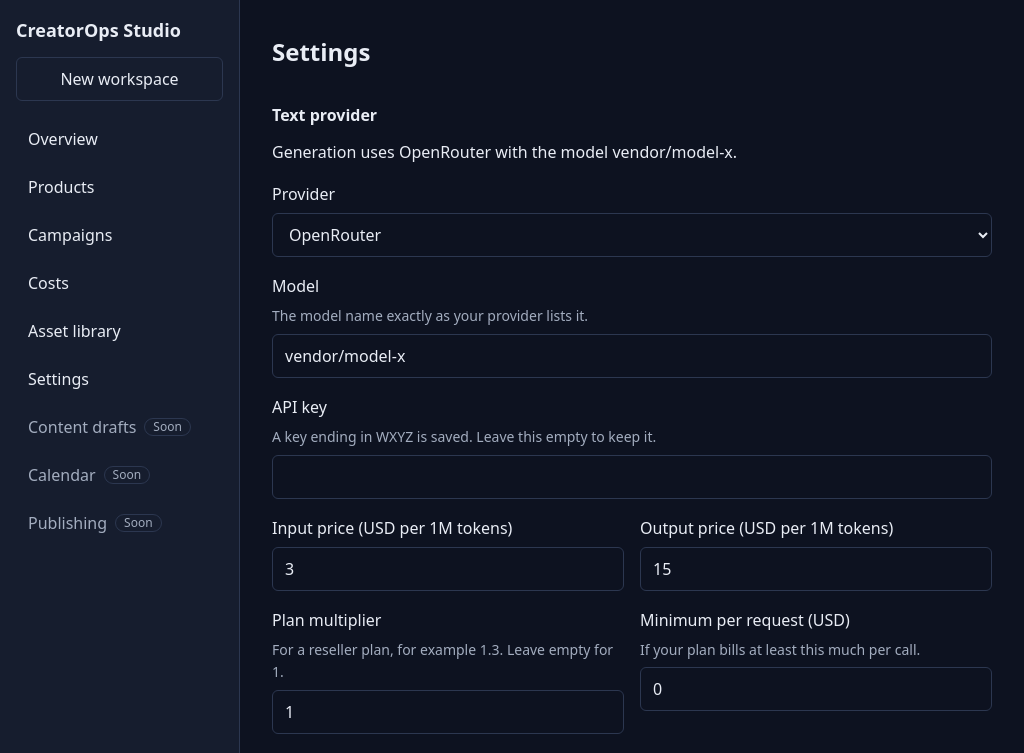
Test: Settings: text provider › explains a conflict and reloads the form with the server values
Replace the text in the field labelled "Model" with "vendor/other" at (632, 356), box [272, 334, 992, 378]
(page scrolled)
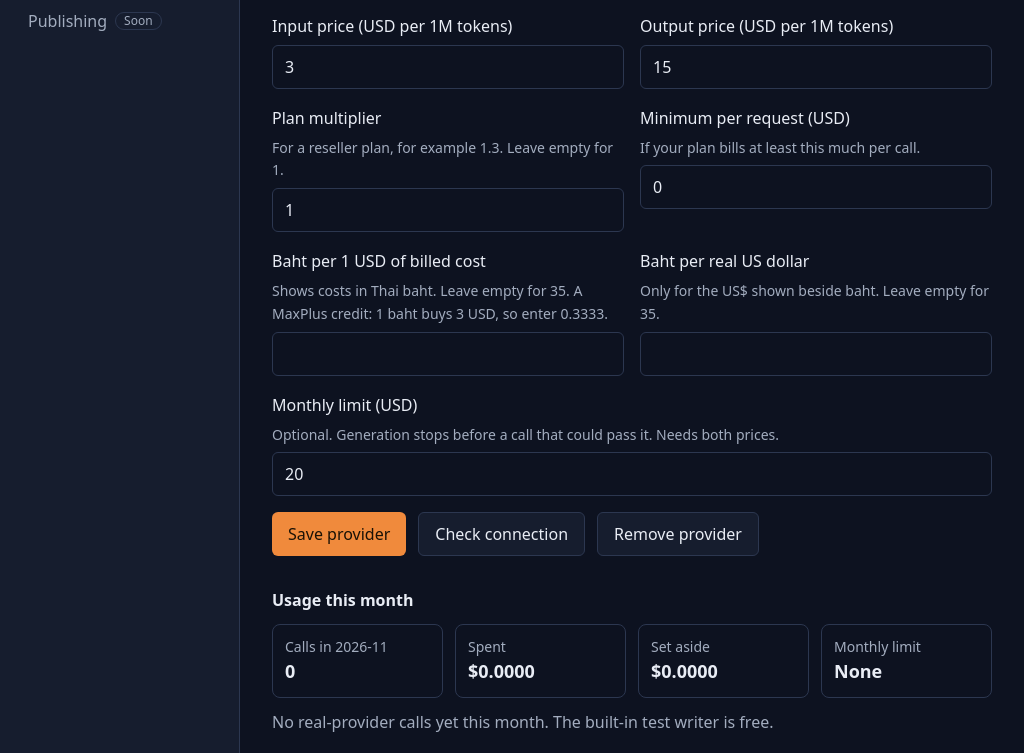
Click the button "Save provider".
click(339, 534)  # box [272, 512, 406, 556]
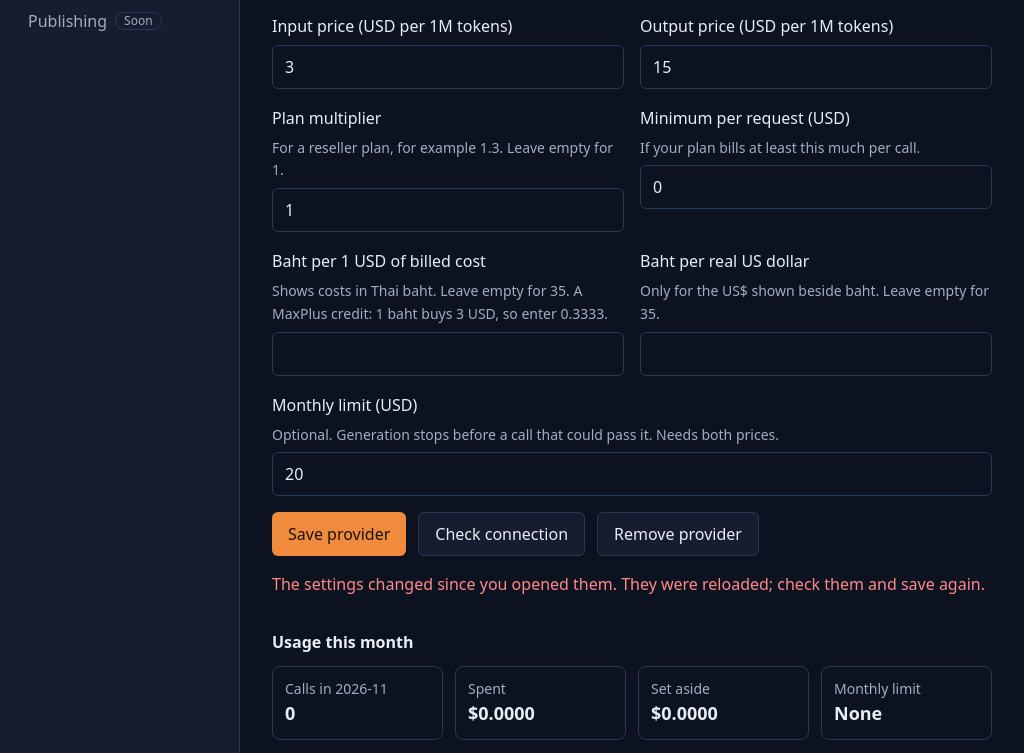
Expected: the message shows "The settings changed since you opened them", [272, 573, 985, 595]
